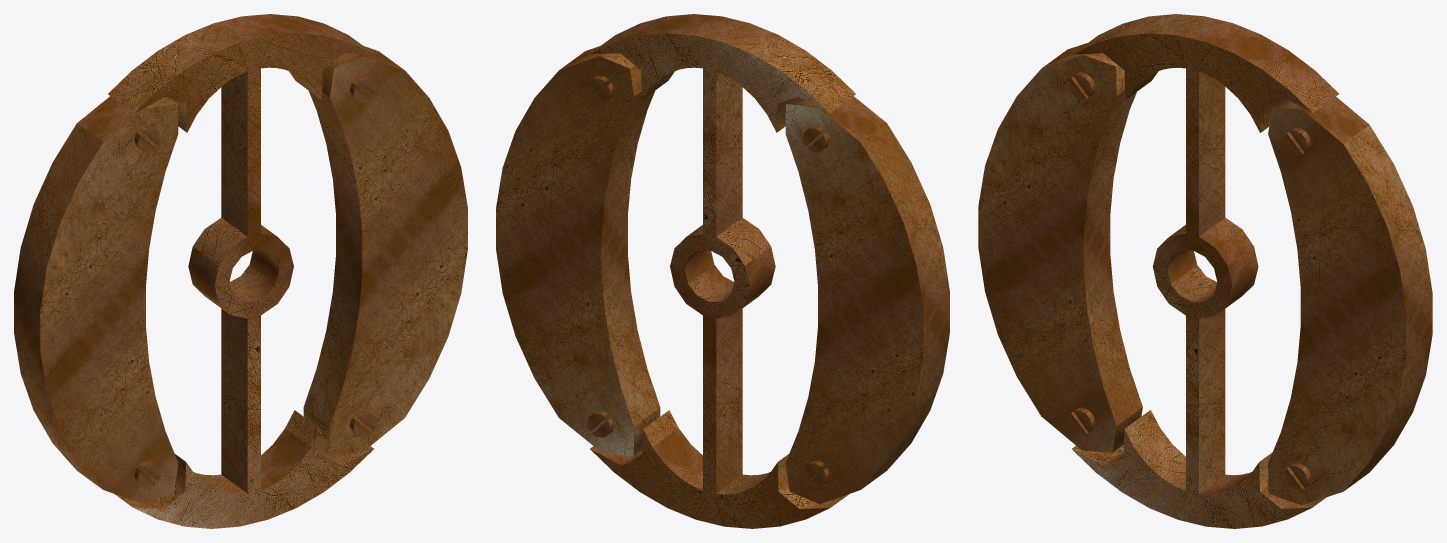
The picture shows the model from 3 angles, left to right: view 1: azimuth 30°, elevation 25°; view 2: azimuth 150°, elevation 25°; view 3: azimuth 330°, elevation 25°; orthographic projection.
Visible parts, largest first — view 1: O, Q_Elements_040; view 2: O, Q_Elements_040; view 3: O, Q_Elements_040, Screw_828, Screw_827, Screw_823, Screw_826.
Part boxes in pixels (box(x1,y1,x2,y2)): O: box(14, 46, 467, 503); Q_Elements_040: box(108, 14, 374, 528); O: box(496, 46, 949, 503); Q_Elements_040: box(589, 14, 855, 528); O: box(978, 43, 1432, 505); Q_Elements_040: box(1072, 14, 1338, 528); Screw_828: box(1068, 407, 1095, 434); Screw_827: box(1068, 72, 1095, 99); Screw_823: box(1284, 463, 1311, 490); Screw_826: box(1284, 127, 1311, 155).
Size of the model in its own units: 93.88 by 102 by 12.89.
Materials: 1 (1 with a texture image).
